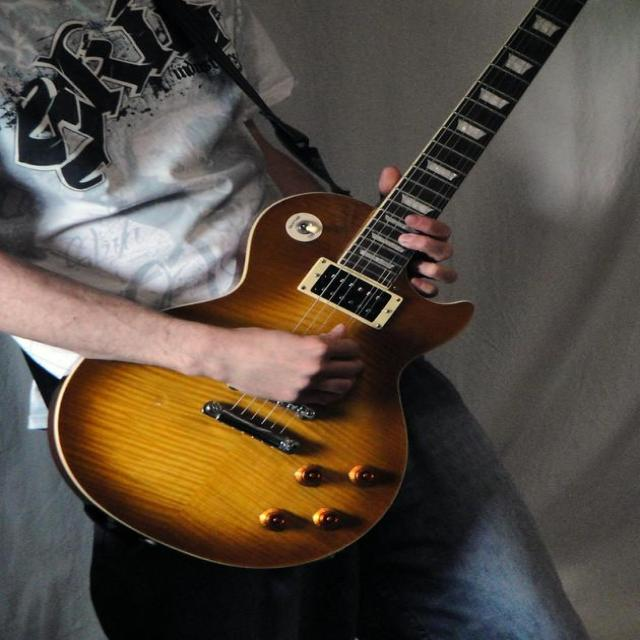guitar: (53, 0, 584, 567)
